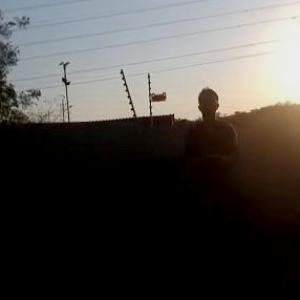follow: (180, 80, 245, 283)
